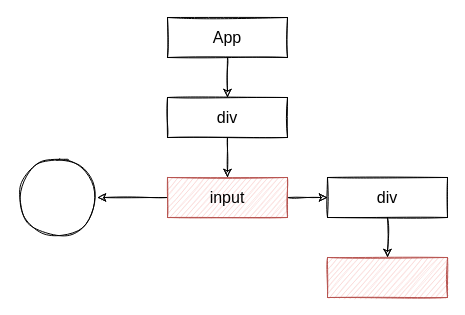
The diagram is 465 pixels wide and 315 high, and some of its shapes have lost their labels. Each missing label, with the centre of its shape:
"loading" goes at (x=387, y=277).
"内容更新为 a" goes at (x=57, y=197).
